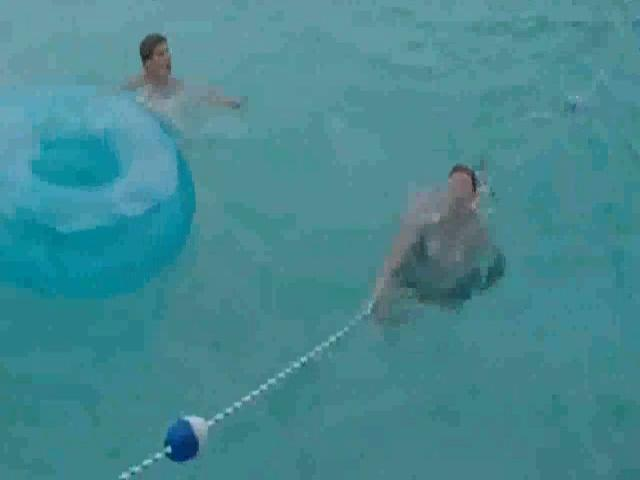swimming: (358, 138, 508, 337), (107, 30, 187, 109)
